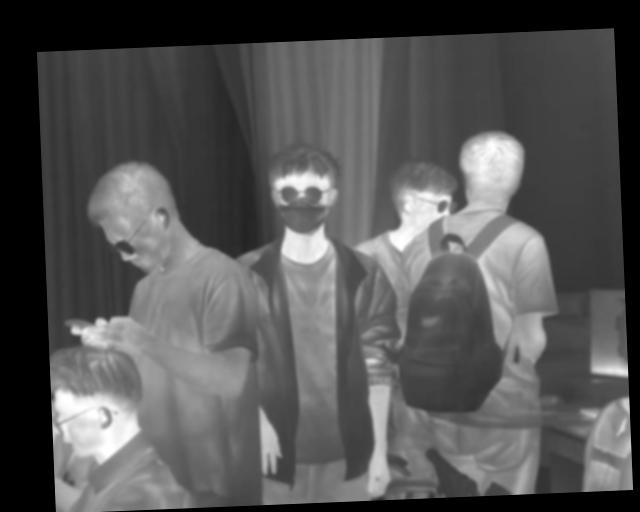face: (85, 157, 179, 279), (267, 142, 343, 237)
